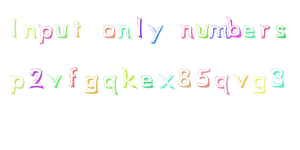2: (28, 67, 45, 88)
3: (270, 66, 285, 88)
5: (197, 67, 211, 89)
8: (177, 67, 191, 88)
I: (8, 16, 27, 39)
b: (207, 23, 230, 39), (226, 15, 242, 38)
e: (241, 24, 256, 38), (140, 74, 154, 88)
f: (67, 65, 79, 88)
g: (84, 74, 99, 94), (252, 75, 267, 95)
k: (122, 67, 137, 88)
l: (135, 17, 144, 38)
n: (117, 23, 132, 39), (22, 24, 38, 38), (180, 23, 194, 39)
o: (101, 24, 115, 38)
p: (9, 74, 26, 95), (38, 24, 53, 45)
q: (214, 74, 230, 96), (102, 75, 119, 95)
r: (259, 23, 271, 39)
s: (275, 24, 287, 38)
t: (72, 19, 81, 38)
u: (195, 23, 211, 38), (55, 24, 69, 38)
v: (46, 73, 63, 88), (233, 74, 249, 88)
x: (157, 73, 175, 89)
y: (147, 22, 164, 44)
